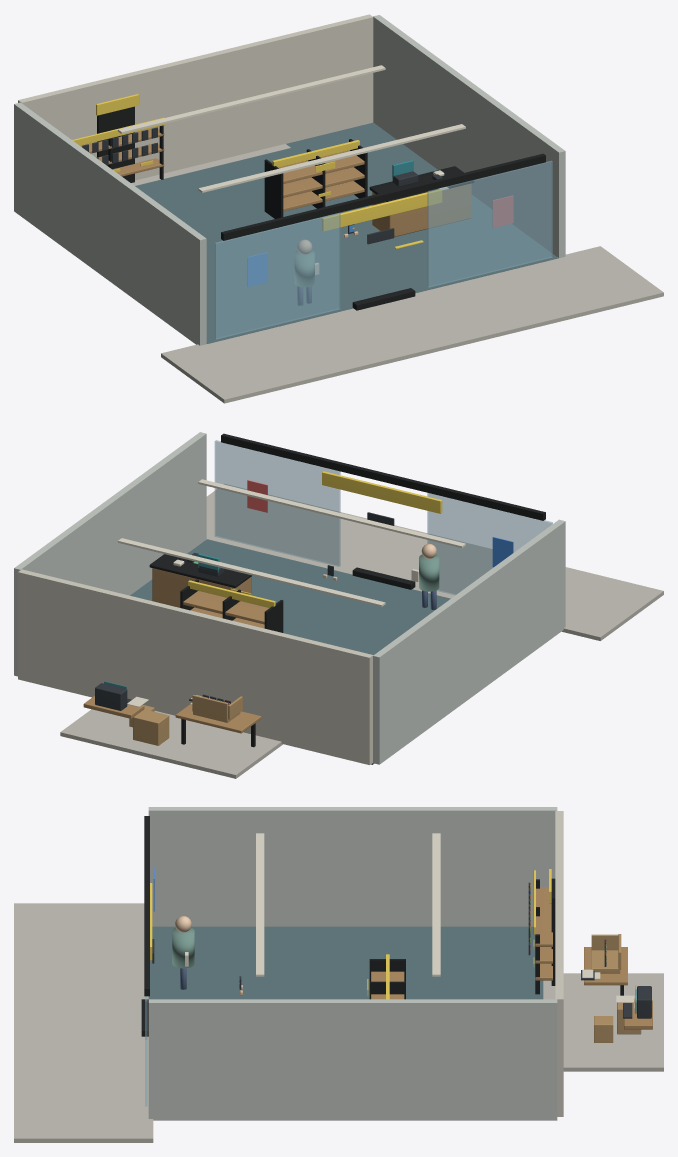
The model's file is game_store_visual_benchmark_full.glb.
3 views of the same model, one above another, from view 1: azimuth 30°, elevation 25°; view 2: azimuth 150°, elevation 25°; view 3: azimuth 270°, elevation 25° (orthographic). The views are drawn at different scales.
Parts seen in each view (by area): view 1: store_low_pile_carpet_floor, mall_concourse_tile_floor, rear_slatwall_game_wall, left_wall_light_retail, right_wall_light_retail, storefront_glass_left_bay, storefront_glass_right_bay, storefront_upper_frame, checkout_counter_laminate_base, fictional_storefront_sign_backlit_panel, ceiling_light_bar_front, ceiling_light_bar_rear (+12 smaller); view 2: rear_slatwall_game_wall, left_wall_light_retail, mall_concourse_tile_floor, right_wall_light_retail, store_low_pile_carpet_floor, storefront_glass_right_bay, backroom_sealed_floor, storefront_glass_left_bay, storefront_upper_frame, fictional_storefront_sign_backlit_panel, ceiling_light_bar_front, ceiling_light_bar_rear (+11 smaller); view 3: right_wall_light_retail, left_wall_light_retail, mall_concourse_tile_floor, store_low_pile_carpet_floor, backroom_sealed_floor, rear_slatwall_game_wall, ceiling_light_bar_front, ceiling_light_bar_rear, storefront_upper_frame, used_wall_shelf_wood_level_3, receiving_table_laminate_top, customer_placeholder_torso (+4 smaller).
Boxes of the visible parts, box(x1,y1,x2,y2) form: store_low_pile_carpet_floor: box(135, 122, 558, 343); mall_concourse_tile_floor: box(161, 246, 663, 403); rear_slatwall_game_wall: box(18, 14, 373, 180); left_wall_light_retail: box(14, 102, 206, 345); right_wall_light_retail: box(373, 15, 565, 258); storefront_glass_left_bay: box(214, 212, 340, 339); storefront_glass_right_bay: box(427, 160, 552, 287); storefront_upper_frame: box(221, 153, 545, 240); checkout_counter_laminate_base: box(372, 184, 471, 236); fictional_storefront_sign_backlit_panel: box(322, 189, 441, 231); ceiling_light_bar_front: box(198, 124, 465, 192); ceiling_light_bar_rear: box(118, 65, 385, 133); rear_slatwall_game_wall: box(18, 569, 373, 764); left_wall_light_retail: box(373, 519, 565, 764); mall_concourse_tile_floor: box(205, 484, 663, 640); right_wall_light_retail: box(14, 432, 206, 676); store_low_pile_carpet_floor: box(130, 539, 450, 764); storefront_glass_right_bay: box(214, 440, 340, 566); backroom_sealed_floor: box(60, 709, 282, 778); storefront_glass_left_bay: box(427, 493, 552, 595); storefront_upper_frame: box(221, 433, 545, 520); fictional_storefront_sign_backlit_panel: box(322, 471, 442, 513); ceiling_light_bar_front: box(198, 479, 465, 547); ceiling_light_bar_rear: box(118, 538, 385, 606); right_wall_light_retail: box(148, 999, 557, 1120); left_wall_light_retail: box(148, 807, 557, 926); mall_concourse_tile_floor: box(14, 903, 153, 1142); store_low_pile_carpet_floor: box(148, 926, 543, 999); backroom_sealed_floor: box(543, 973, 663, 1071); rear_slatwall_game_wall: box(555, 811, 563, 1116); ceiling_light_bar_front: box(256, 833, 264, 976); ceiling_light_bar_rear: box(432, 833, 440, 976); storefront_upper_frame: box(144, 816, 149, 996); used_wall_shelf_wood_level_3: box(535, 887, 552, 946); receiving_table_laminate_top: box(584, 947, 627, 985); customer_placeholder_torso: box(172, 927, 194, 968).
Bounding box in the file's own units: 12 × 2.92 × 14.
